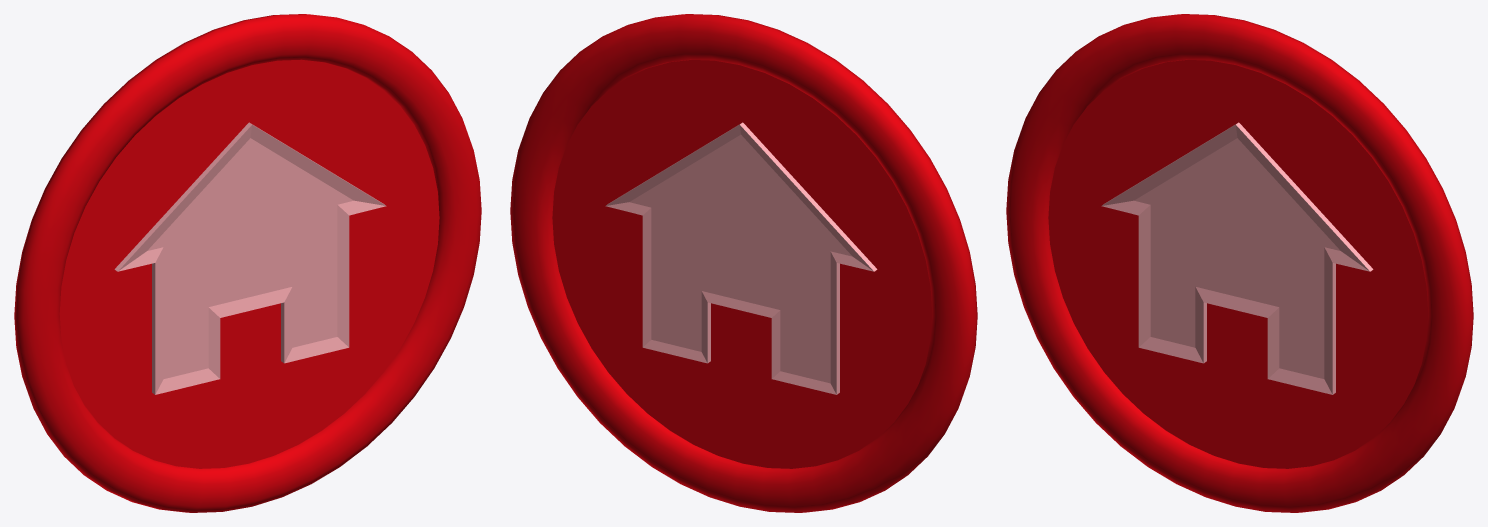
Rendered from house_icon.glb.
3 views of the same model, side by side, from view 1: azimuth 30°, elevation 25°; view 2: azimuth 150°, elevation 25°; view 3: azimuth 330°, elevation 25° (orthographic).
Parts seen in each view (by area): view 1: Cube; view 2: Cube; view 3: Cube.
Part boxes in pixels (box(x1,y1,x2,y2)): Cube: box(14, 14, 481, 512); Cube: box(510, 14, 977, 512); Cube: box(1006, 14, 1473, 512).
Bounding box in the file's own units: 1.2 × 1.2 × 0.0798.
